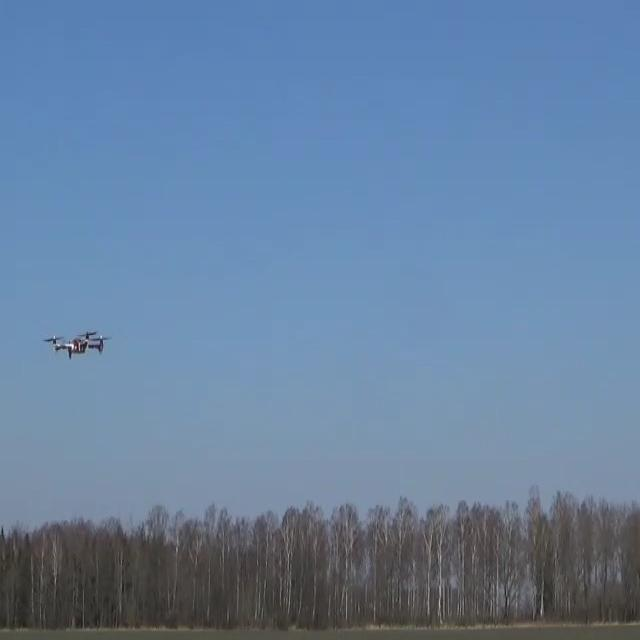drone: (42, 328, 111, 358)
